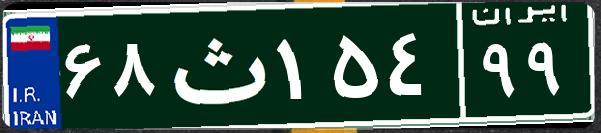1: (273, 28, 330, 110)
4: (385, 28, 445, 110)
5: (330, 28, 385, 110)
6: (57, 26, 110, 107)
8: (110, 28, 158, 105)
9: (475, 38, 525, 113), (525, 38, 570, 115)
ث: (158, 15, 273, 115)
